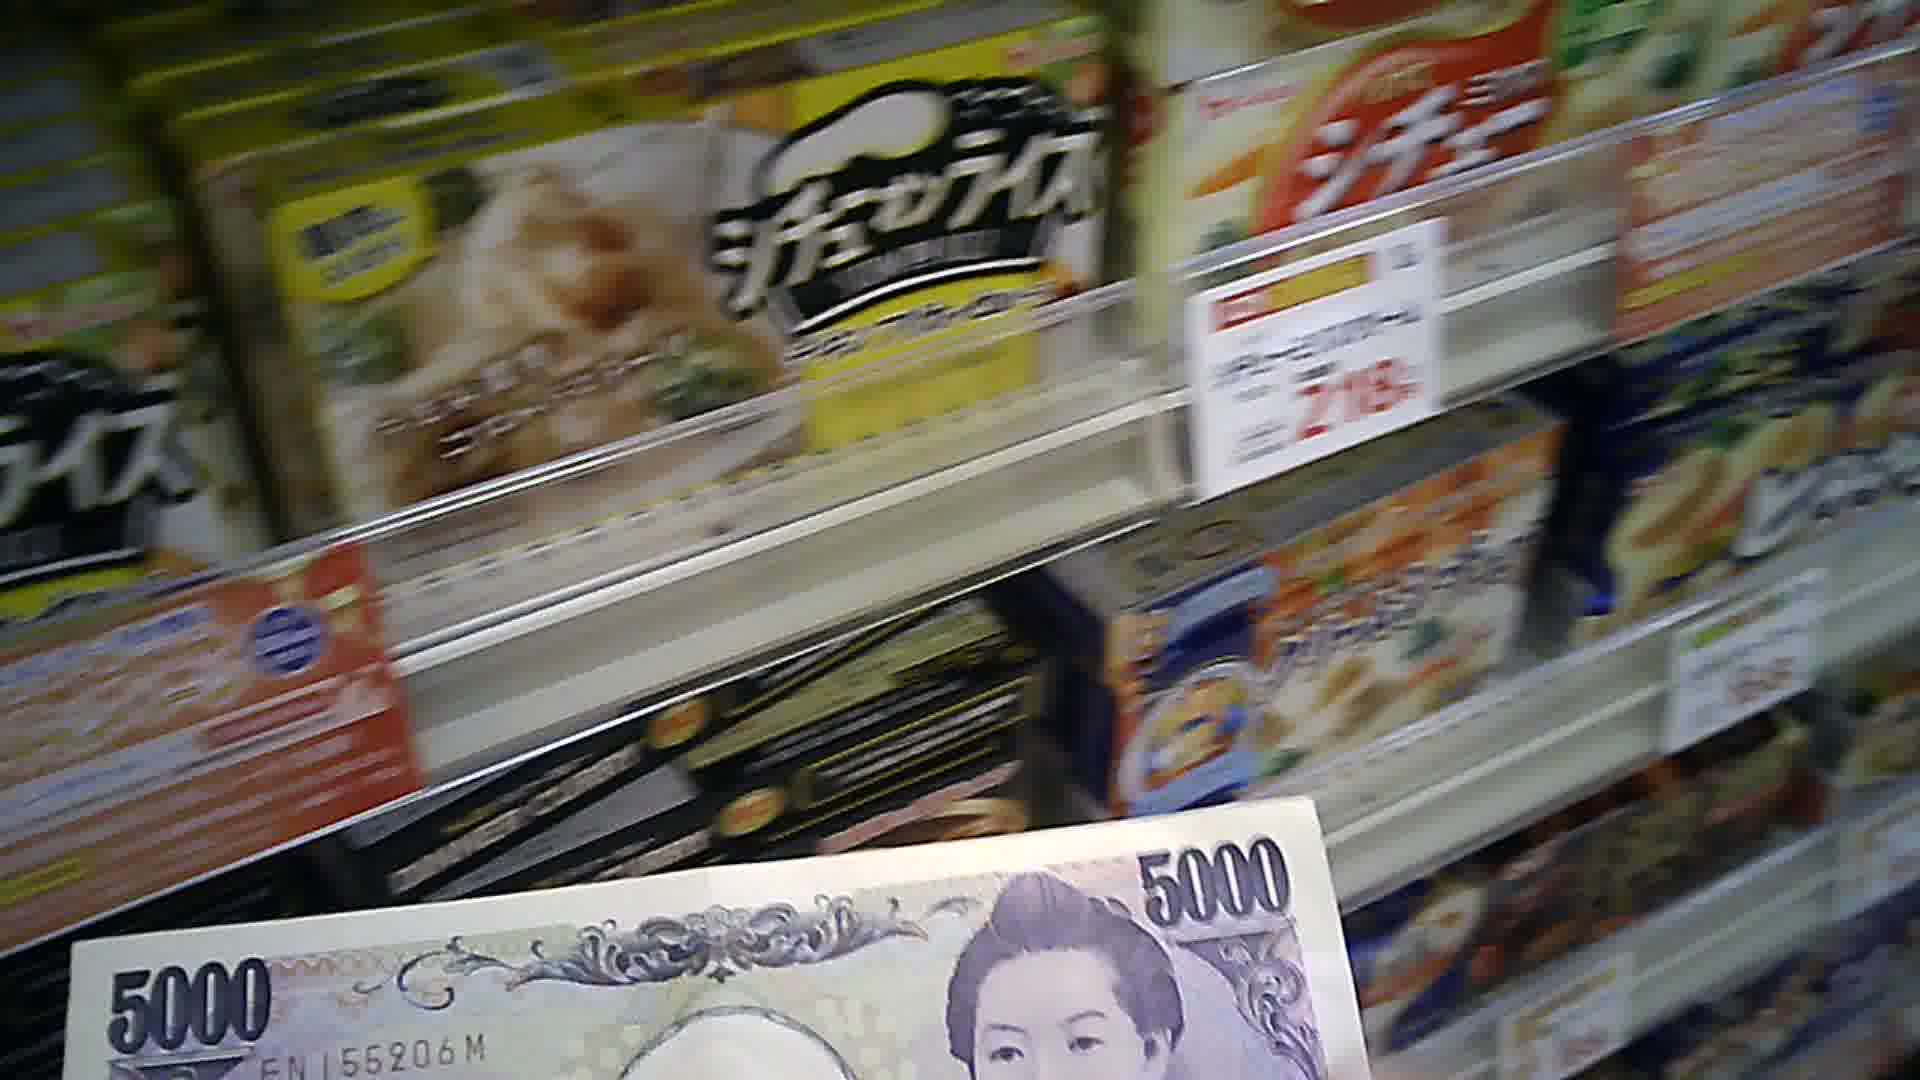5,000 Yen: (50, 823, 1353, 1079)
